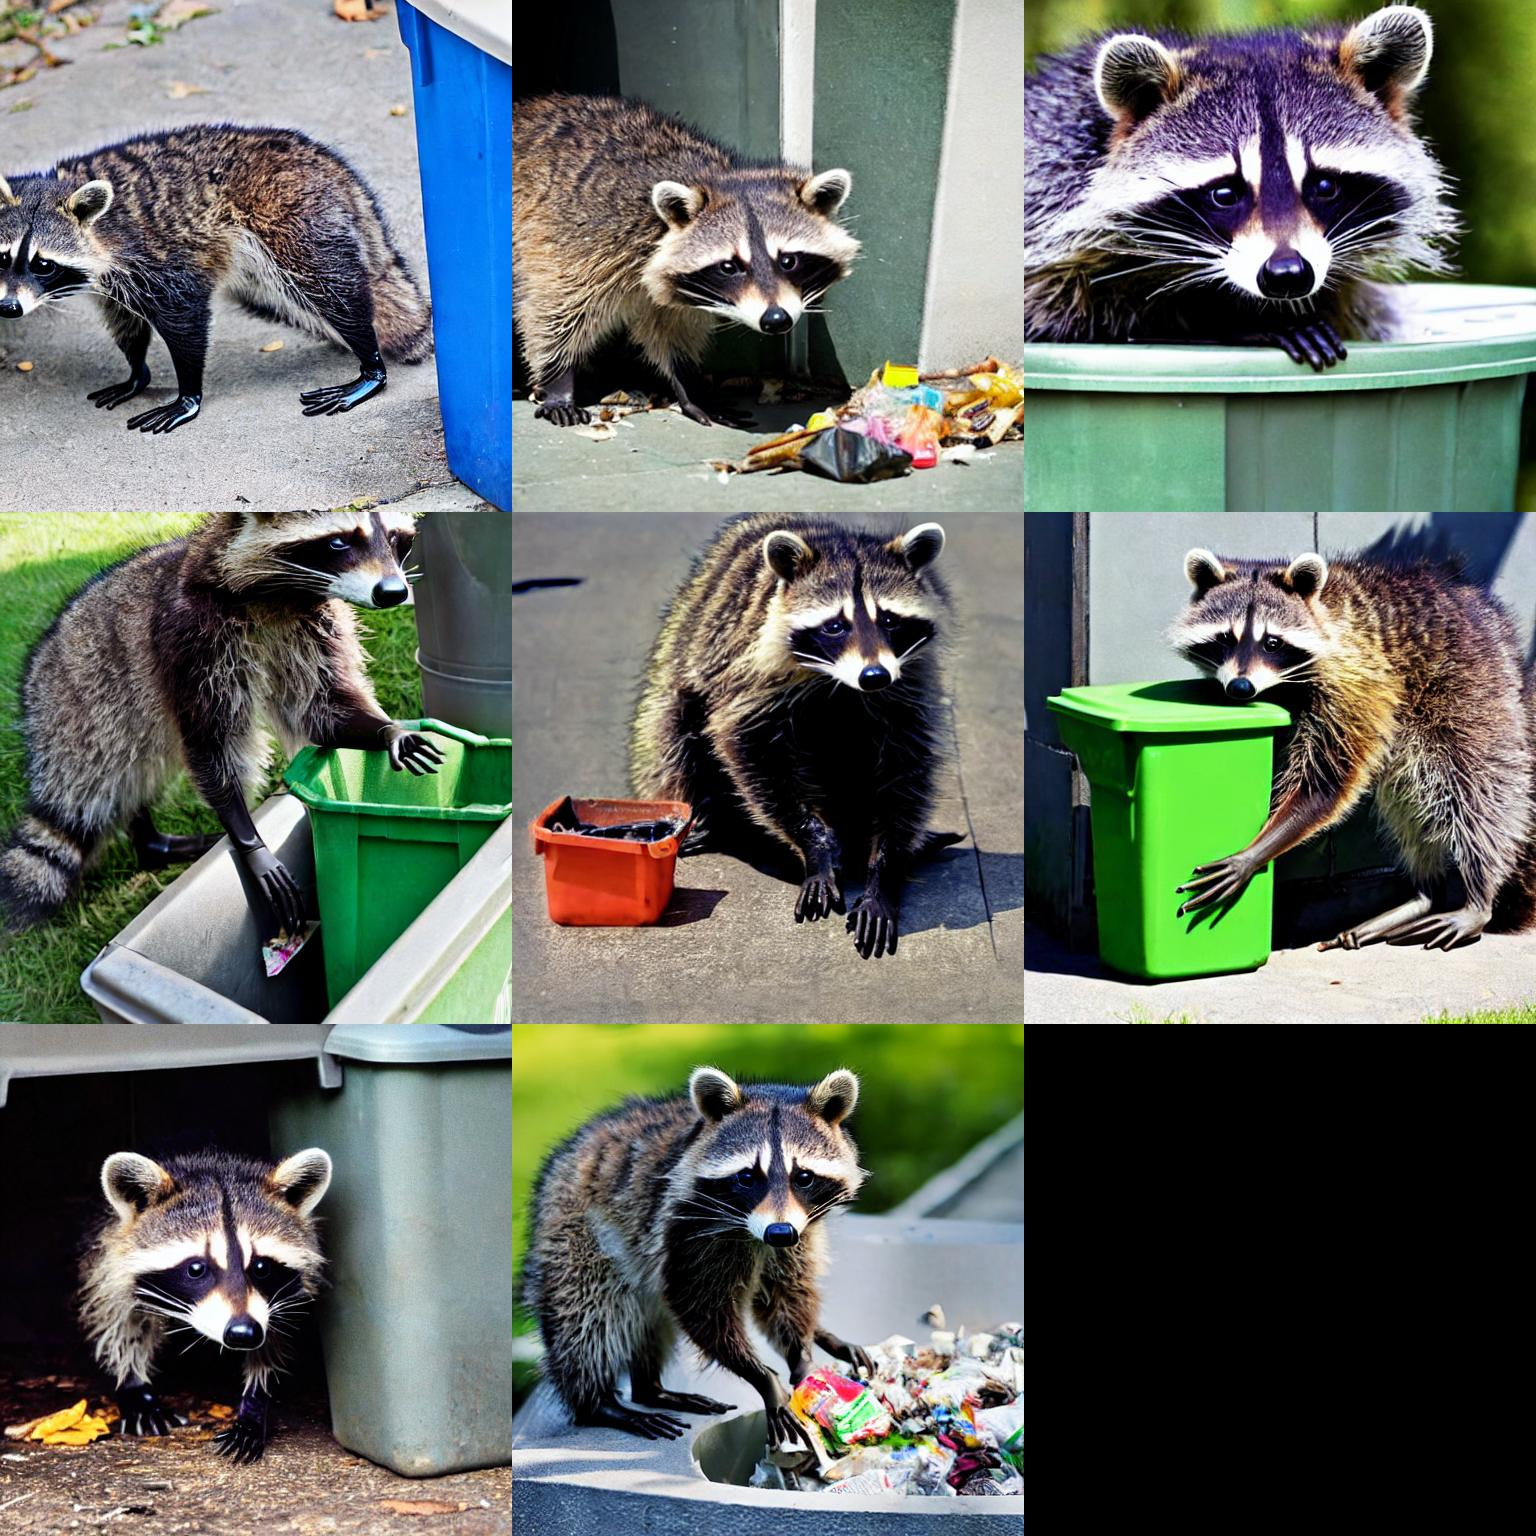raccoon: (0, 508, 440, 910), (1025, 0, 1477, 328), (1175, 530, 1536, 893), (630, 518, 980, 875), (525, 1058, 881, 1402), (0, 110, 435, 390), (512, 83, 862, 415), (60, 1132, 340, 1412)
